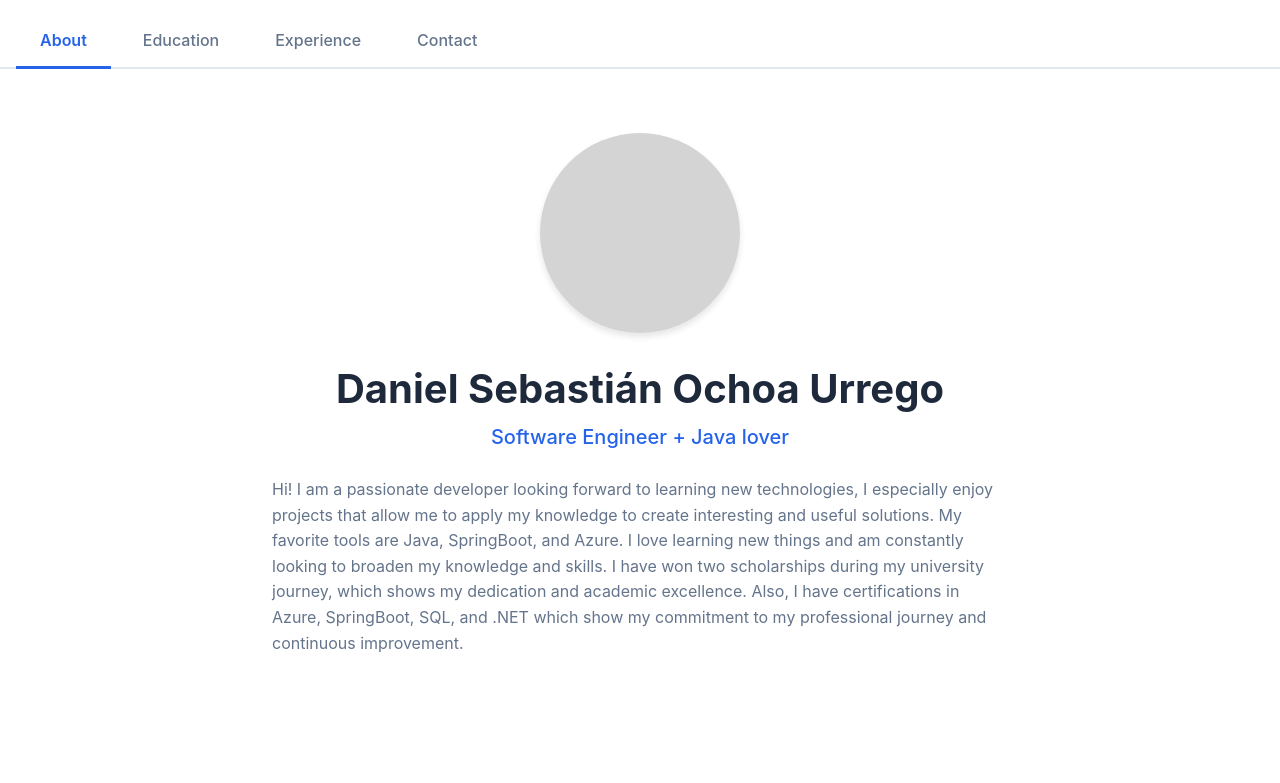
Test: App - Integration Tests › allows access to all four tabs
This screenshot has width=1280, height=783.
Check: the heading "Daniel Sebastián Ochoa Urrego" is shown, box [336, 364, 944, 413]
// Test Academic tab
Click the tab "Education". click: {"x": 181, "y": 42}
box: [119, 14, 243, 69]
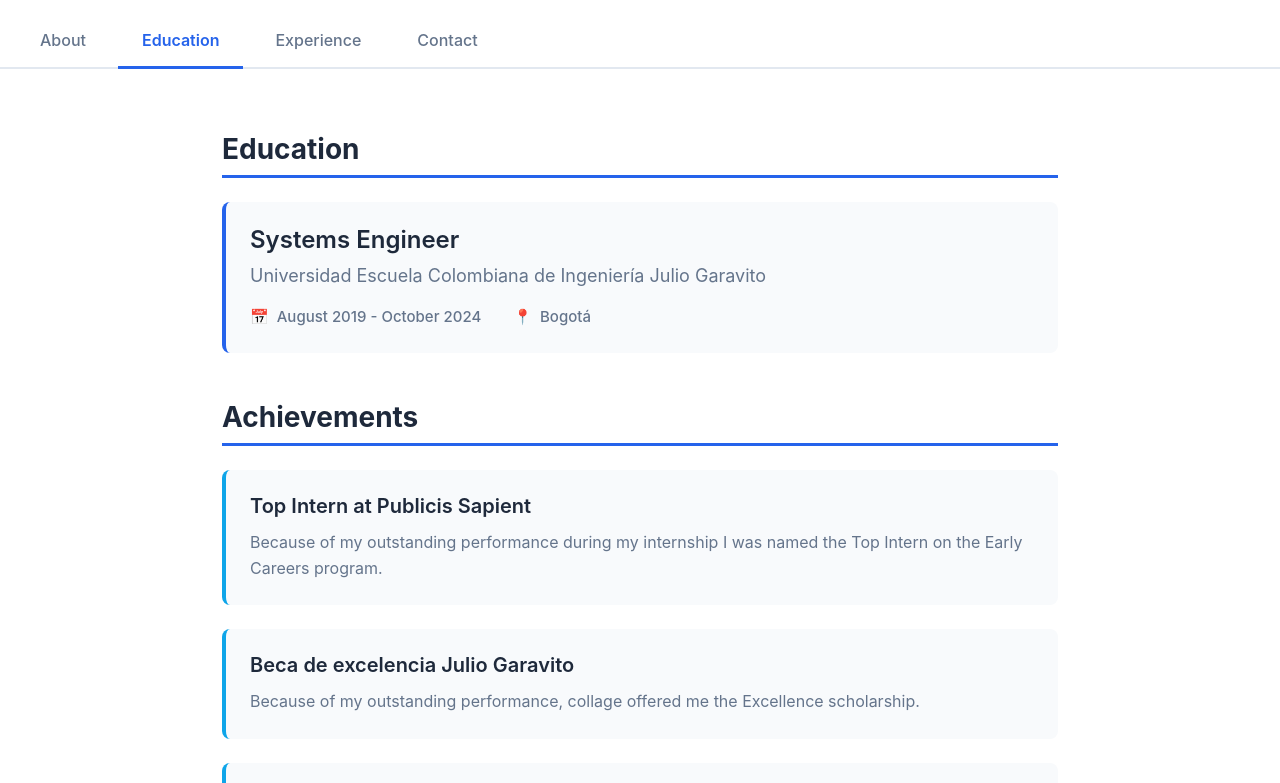
Check: the heading "Systems Engineer" is shown, box [250, 225, 459, 254]
// Test Experience tab
Click the tab "Experience". click: {"x": 318, "y": 42}
box: [252, 14, 385, 69]
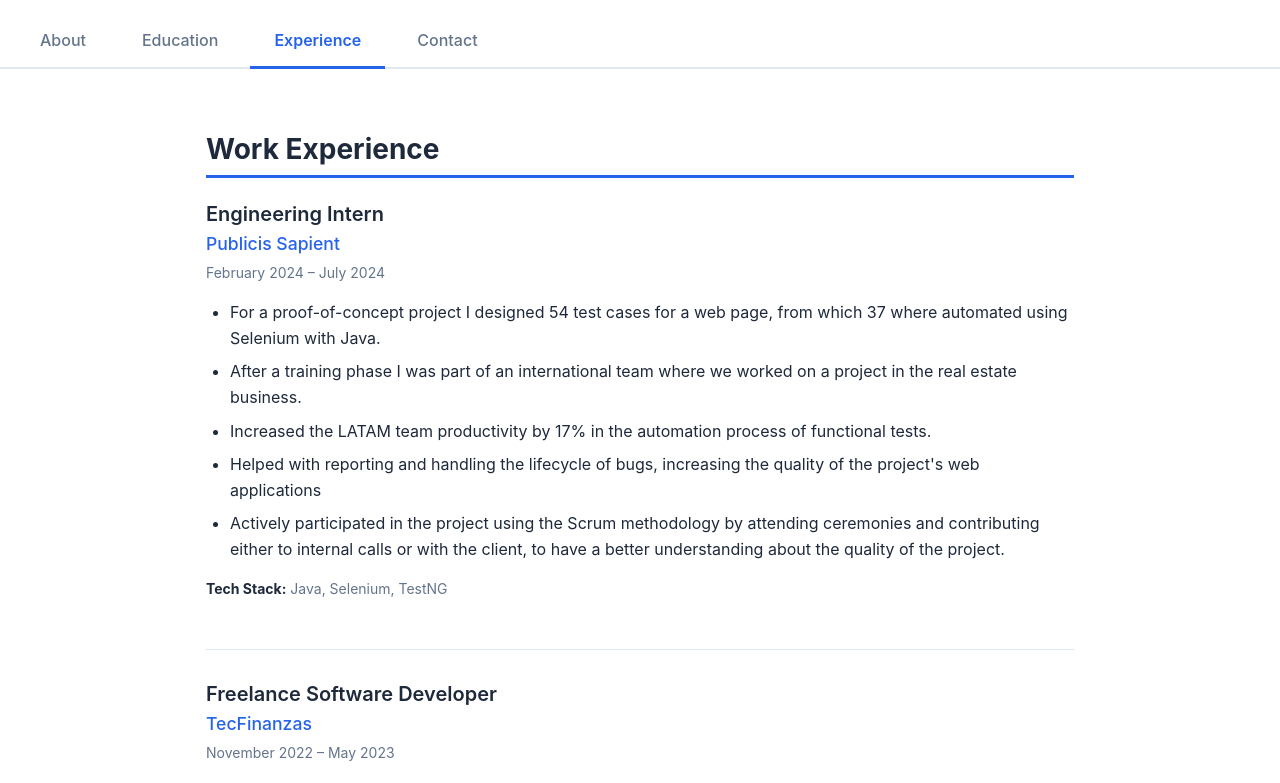
Check: the text "Publicis Sapient" is shown, box [206, 233, 340, 254]
// Test Contact tab
Click the tab "Contact". click: {"x": 447, "y": 42}
box: [393, 14, 502, 69]
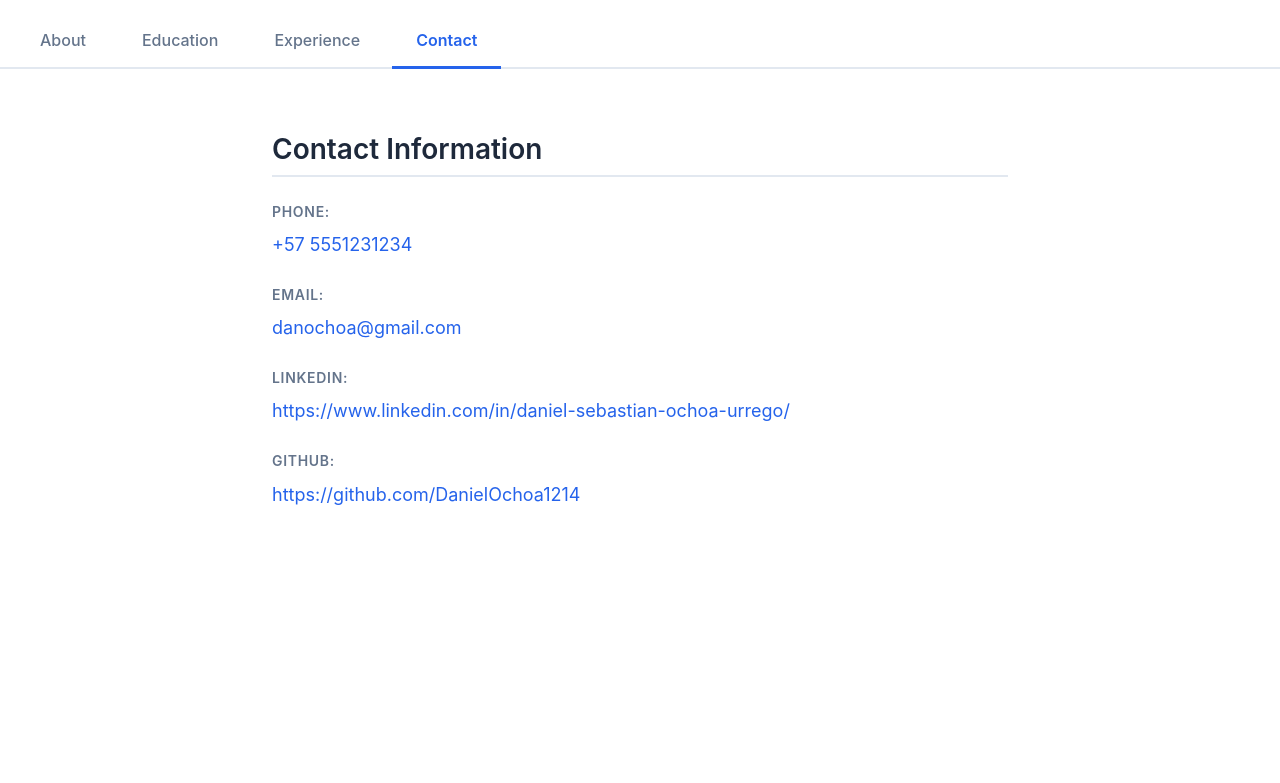
Check: the link "danochoa@gmail.com" is shown, box [272, 317, 462, 338]
